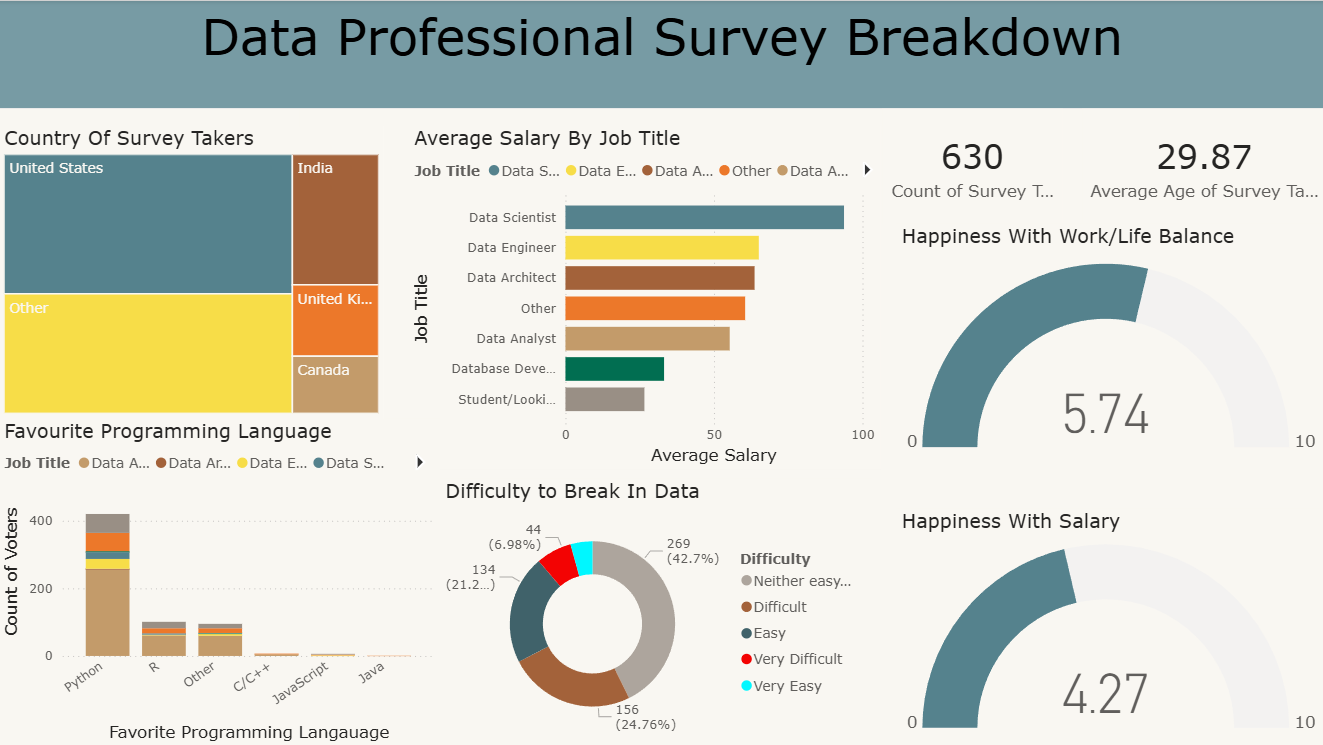

The page's visual inventory and layout, read from the dashboard file:
{"tool":"powerbi","page":{"name":"Page 1","canvas":[1280,720],"ordinal":0},"visuals":[{"type":"textbox","box":[10,0,280,280],"z":0},{"type":"textbox","box":[0,0,1280.3,104.7],"z":1000},{"type":"card","fields":{"Values":["Count(Data Professional Survey (2).Unique ID)"]},"box":[853.5,105.2,173.6,111.3],"z":2000},{"type":"card","fields":{"Values":["Avg(Data Professional Survey (2).Q10 - Current Age)"]},"box":[1045.5,105.2,234.8,111.3],"z":3000},{"type":"barChart","title":"Average Salary By Job Title","fields":{"Category":["Data Professional Survey (2).Q1 - Which Title Best Fits your Current Role?.1"],"Y":["Avg(Data Professional Survey (2).Average Salary)"],"Series":["Data Professional Survey (2).Q1 - Which Title Best Fits your Current Role?.1"]},"box":[396.2,122.3,454.9,331.4],"z":4000},{"type":"columnChart","title":"Favourite Programming Language","fields":{"Category":["Data Professional Survey (2).Q5 - Favorite Programming Language.1"],"Y":["CountNonNull(Data Professional Survey (2).Unique ID)"],"Series":["Data Professional Survey (2).Q1 - Which Title Best Fits your Current Role?.1"]},"box":[0,404.2,425.9,316.1],"z":5000},{"type":"treemap","title":"Country Of Survey Takers","fields":{"Group":["Data Professional Survey (2).Q11 - Which Country do you live in?.1"],"Values":["CountNonNull(Data Professional Survey (2).Q11 - Which Country do you live in?.1)"]},"box":[0,121.9,371.6,282.3],"z":6000},{"type":"gauge","title":"Happiness With Work/Life Balance","fields":{"Y":["Avg(Data Professional Survey (2).Q6 - How Happy are you in your Current Position with the following? (Work/Life Balance)"],"MinValue":["Min(Data Professional Survey (2).Q6 - How Happy are you in your Current Position with the following? (Work/Life Balance)"],"MaxValue":["Max(Data Professional Survey (2).Q6 - How Happy are you in your Current Position with the following? (Work/Life Balance)"]},"box":[865.8,216.4,414.5,237.2],"z":7000},{"type":"gauge","title":"Happiness With Salary","fields":{"Y":["Avg(Data Professional Survey (2).Q6 - How Happy are you in your Current Position with the following? (Salary))"],"MinValue":["Min(Data Professional Survey (2).Q6 - How Happy are you in your Current Position with the following? (Salary))"],"MaxValue":["Max(Data Professional Survey (2).Q6 - How Happy are you in your Current Position with the following? (Salary))"]},"box":[865.8,491.6,414.5,228.7],"z":8000},{"type":"donutChart","title":"Difficulty to Break In Data","fields":{"Category":["Data Professional Survey (2).Q7 - How difficult was it for you to break into Data?"],"Y":["CountNonNull(Data Professional Survey (2).Q7 - How difficult was it for you to break into Data?)"]},"box":[425.9,462.1,416.2,258.2],"z":9000}]}

Visuals, with their boxes in screenshot pixels (x1, y1, x2, y2), scaled from the page's 1280x720 canvas onto the 1323x745 screenshot:
textbox: left=10, top=0, right=300, bottom=290
textbox: left=0, top=0, right=1322, bottom=108
card - Count(Data Professional Survey (2).Unique ID): left=882, top=109, right=1062, bottom=224
card - Avg(Data Professional Survey (2).Q10 - Current Age): left=1081, top=109, right=1322, bottom=224
"Average Salary By Job Title" barChart: left=410, top=127, right=880, bottom=469
"Favourite Programming Language" columnChart: left=0, top=418, right=440, bottom=744
"Country Of Survey Takers" treemap: left=0, top=126, right=384, bottom=418
"Happiness With Work/Life Balance" gauge: left=895, top=224, right=1322, bottom=469
"Happiness With Salary" gauge: left=895, top=509, right=1322, bottom=744
"Difficulty to Break In Data" donutChart: left=440, top=478, right=870, bottom=744
